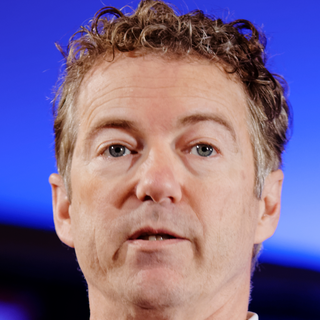eye: (94, 138, 140, 164), (178, 138, 224, 163)
